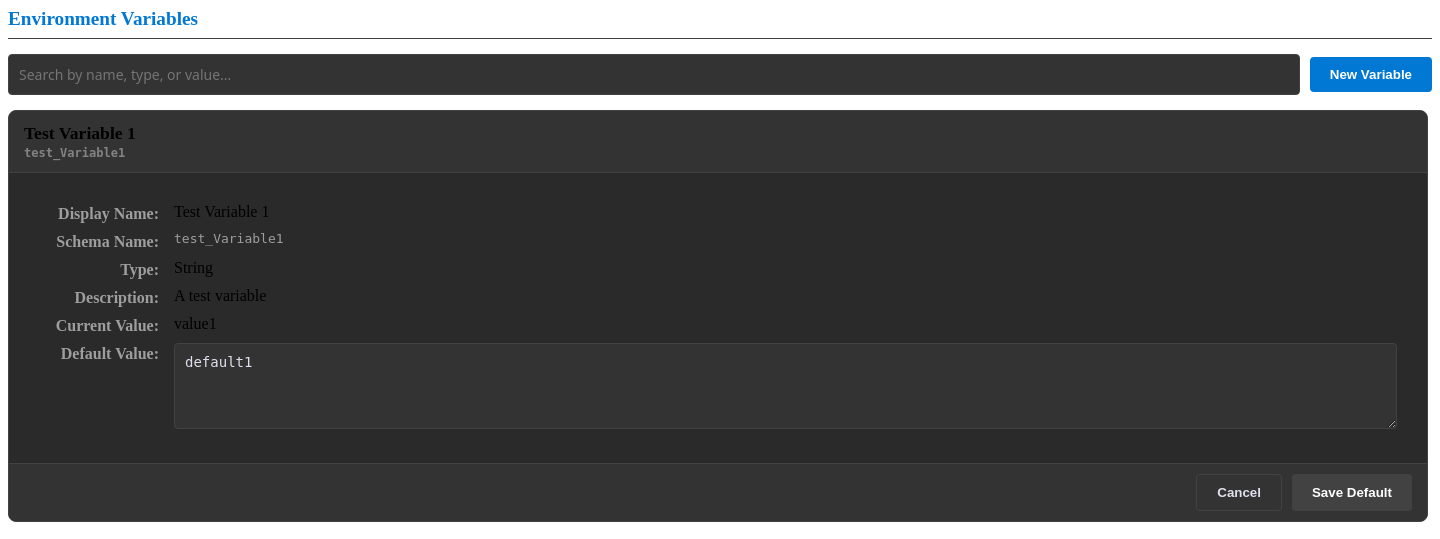
Scenario: EnvVarsTab › edit default mode extended › should enable save-default button when value changes
Replace the text in the text box with class "env-var-default-edit-area" with "new default value" at [786, 386], box [174, 343, 1397, 429]
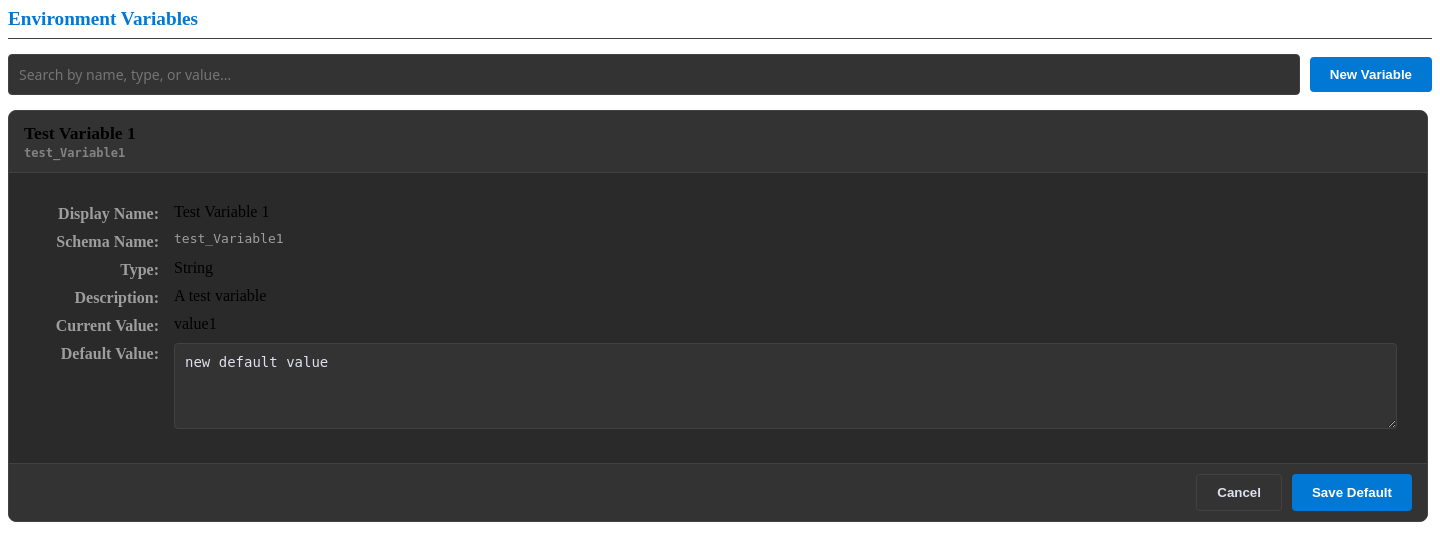
Check: the button with class "save-default-btn" is enabled, box [1292, 474, 1412, 511]
